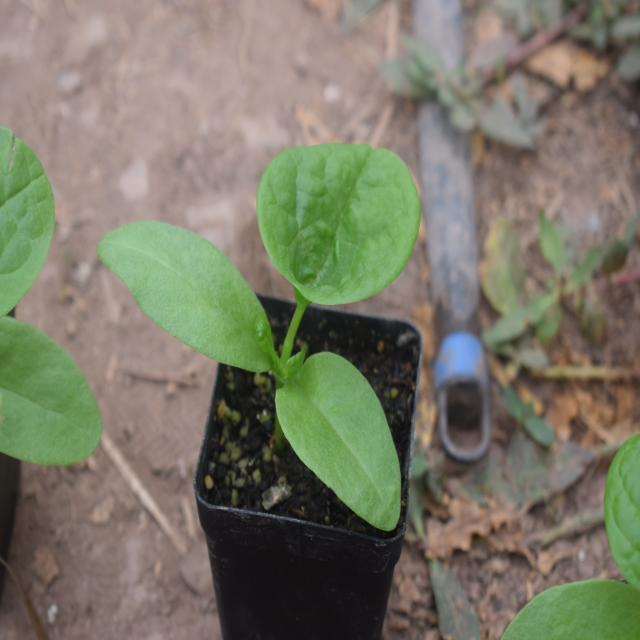Ceylon spinach: (110, 137, 458, 529)
